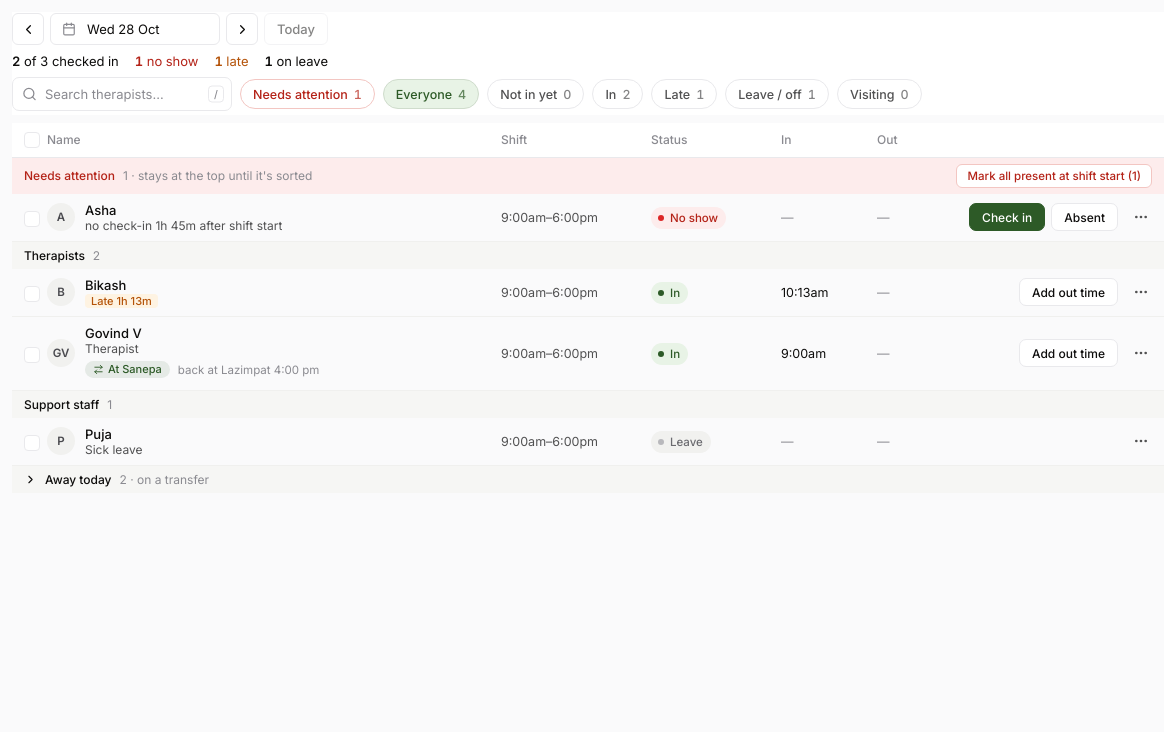
Test case: AttendancePanel › Check in is a punch at THIS branch (source "button", now)
Check: the text "Asha" is shown, box [85,202,116,218]
What coordinates should you click on to do the following:
click the button "Check in"
I would click on:
 (1007, 217)
Its box is [969,203,1045,231].
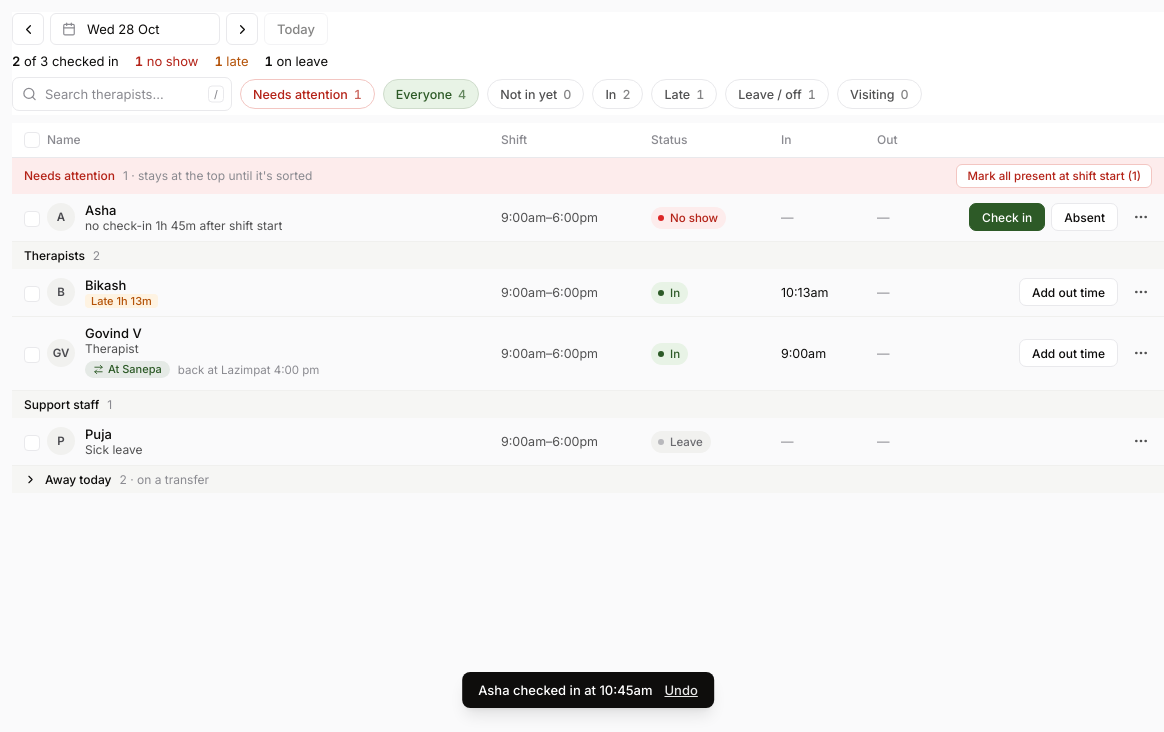
Check: the text "Asha checked in at 10:45am" is shown, box [478,682,652,698]
Check: the button "Undo" is shown, box [664,682,698,698]
